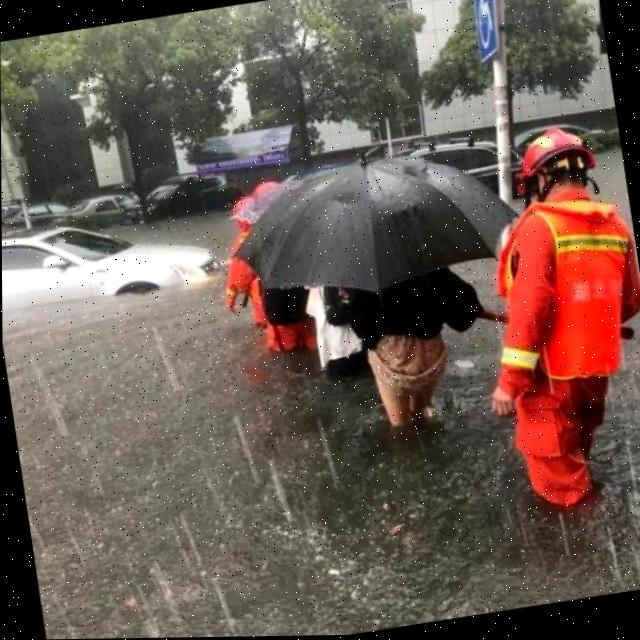civilian: (325, 216, 507, 445), (301, 264, 378, 399)
rescuer: (453, 105, 640, 533), (244, 176, 326, 356), (205, 180, 280, 339)
